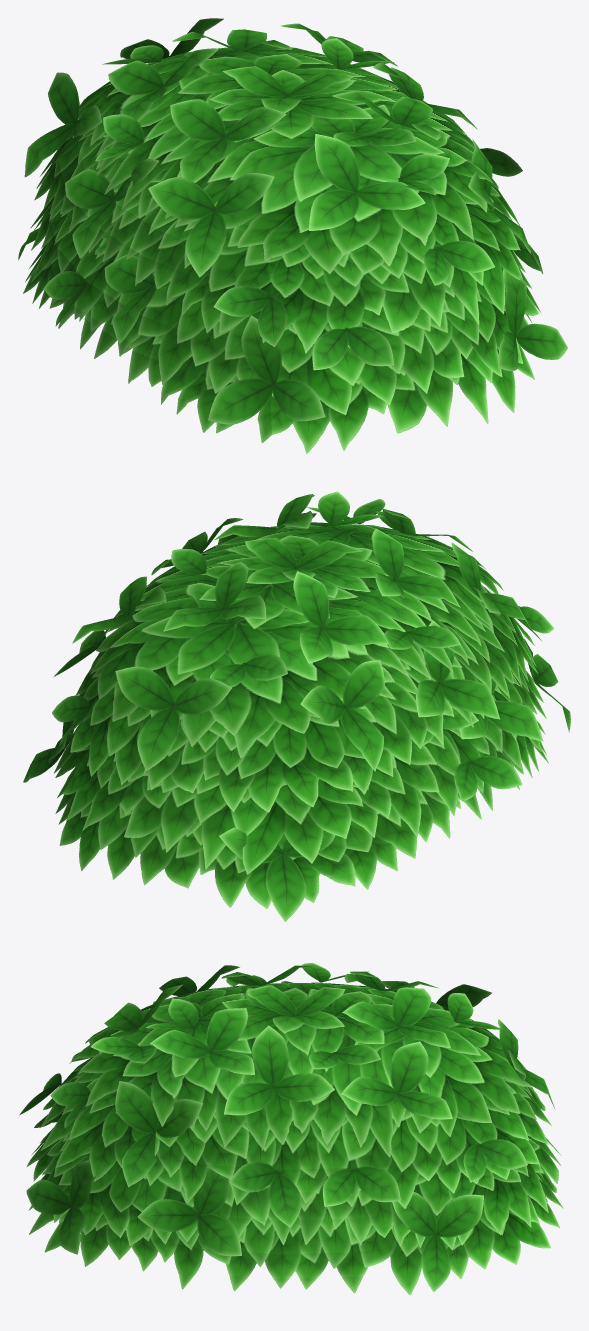
Rendered from sm_env_giantbush.fbx.
3 views of the same model, one above another, from view 1: azimuth 30°, elevation 25°; view 2: azimuth 150°, elevation 25°; view 3: azimuth 270°, elevation 25° (orthographic). The views are drawn at different scales.
Parts seen in each view (by area): view 1: pPlane86; view 2: pPlane86; view 3: pPlane86.
Boxes of the visible parts, box(x1,y1,x2,y2) form: pPlane86: box(18, 18, 567, 453); pPlane86: box(23, 491, 570, 921); pPlane86: box(19, 963, 563, 1295).
Size of the model in its own units: 177 by 106 by 218.
